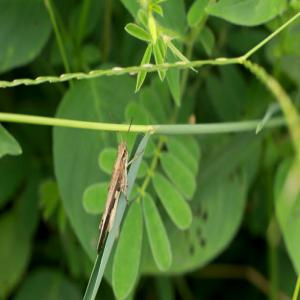locust: (76, 97, 165, 263)
